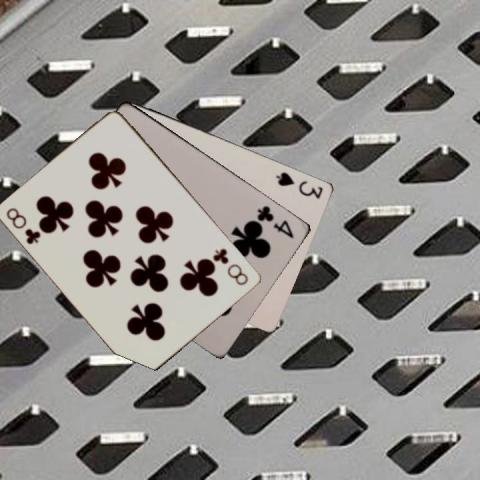3s: (273, 169, 325, 200)
4c: (254, 202, 295, 240)
8c: (3, 205, 43, 246), (211, 246, 250, 287)
